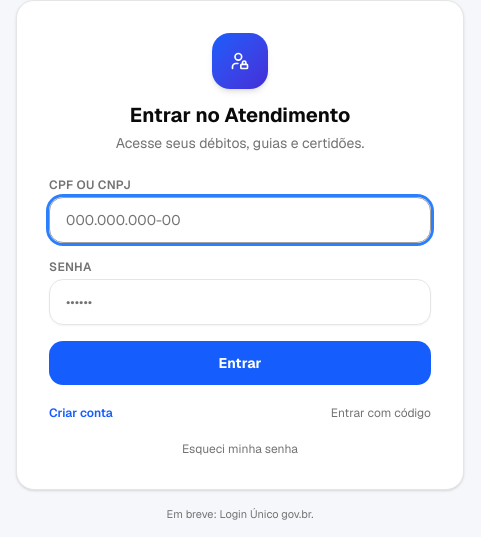
Test case: EntrarForm › troca para o modo OTP ao clicar em 'Entrar com código'
Click the button "Entrar com código" at (381, 413), box [331,405,431,421]
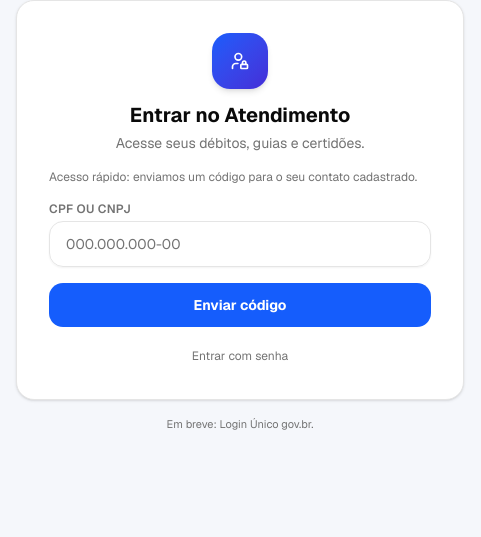
Expected: the field with placeholder "000.000.000-00" is shown, [49,221,431,267]
Expected: the button "Enviar código" is shown, [49,283,431,327]
